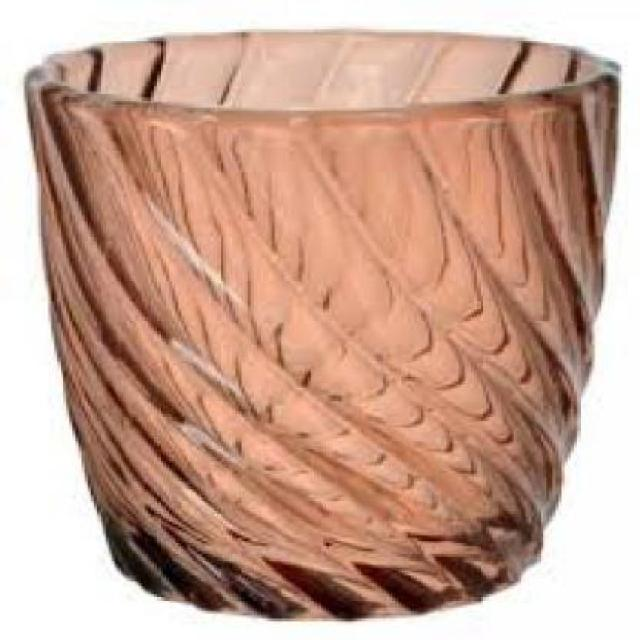kaca: (18, 26, 616, 619)
